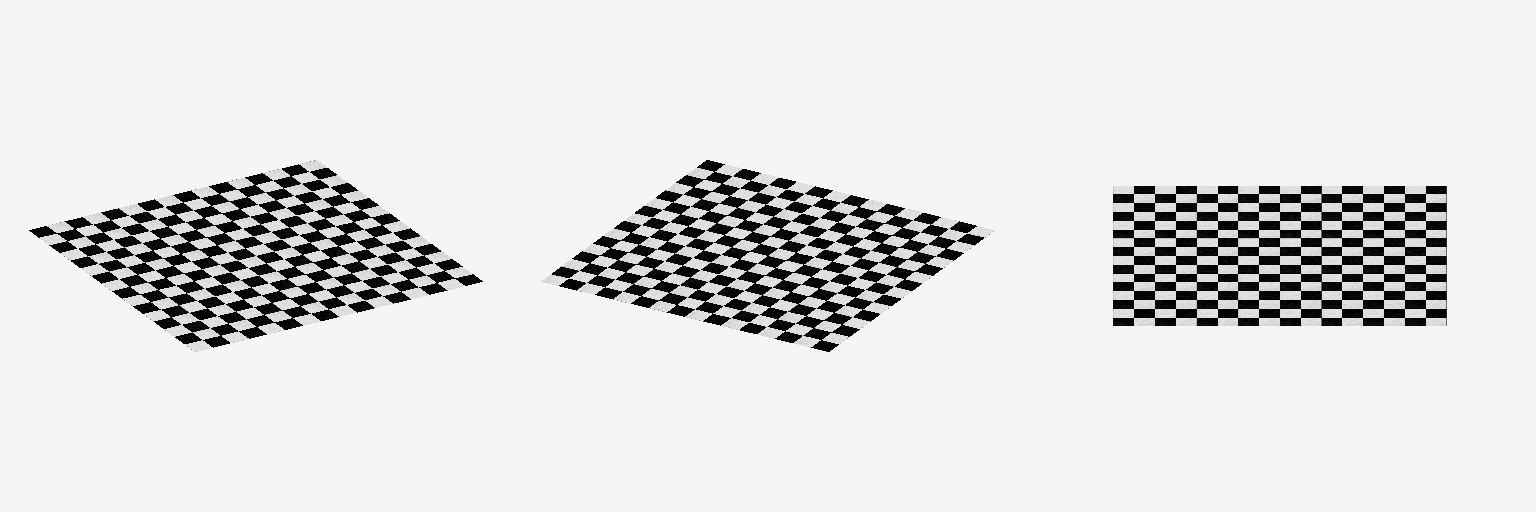
The picture shows the model from 3 angles: view 1: azimuth 30°, elevation 25°; view 2: azimuth 150°, elevation 25°; view 3: azimuth 270°, elevation 25°; orthographic projection.
Visible parts, largest first — view 1: Plane; view 2: Plane; view 3: Plane.
Part boxes in pixels (left/top/right/bottom): Plane: left=29, top=160, right=482, bottom=351; Plane: left=541, top=160, right=994, bottom=351; Plane: left=1113, top=186, right=1446, bottom=325.
Size of the model in its own units: 16 by 0 by 16.
1 materials, 1 textured.